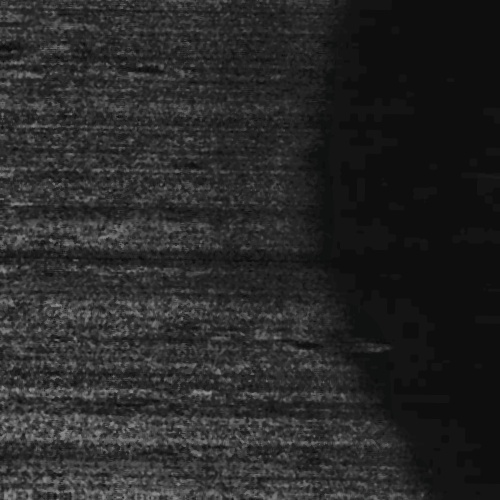object: (16, 20, 99, 27), (21, 46, 74, 51)
shadow: (0, 20, 58, 27), (0, 46, 48, 51)
